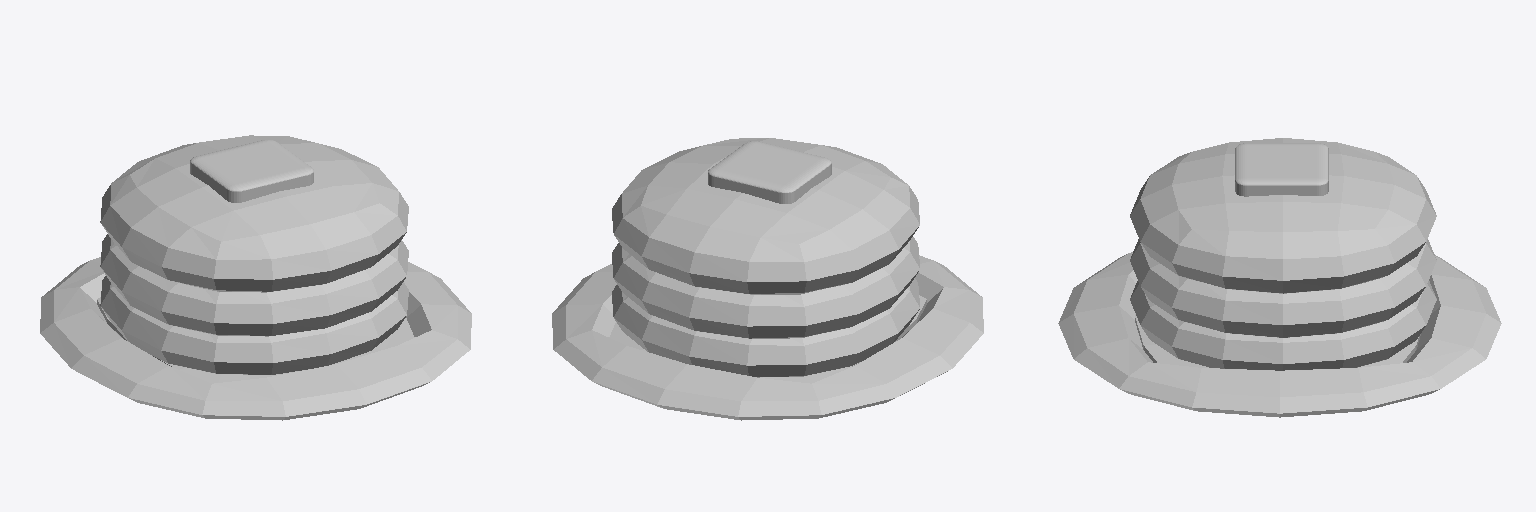
The model's file is Pancakes.obj.
3 views of the same model, side by side, from view 1: azimuth 30°, elevation 25°; view 2: azimuth 150°, elevation 25°; view 3: azimuth 270°, elevation 25° (orthographic).
Parts seen in each view (by area): view 1: Cube.003, Cube, Cube.002, Cube.001, Roundcube; view 2: Cube.003, Cube, Cube.002, Cube.001, Roundcube; view 3: Cube.003, Cube, Cube.002, Cube.001, Roundcube.
Part boxes in pixels (left/top/right/bottom): Cube.003: left=100, top=135, right=408, bottom=292; Cube: left=40, top=257, right=471, bottom=420; Cube.002: left=100, top=234, right=408, bottom=336; Cube.001: left=100, top=276, right=408, bottom=374; Roundcube: left=190, top=140, right=313, bottom=202; Cube.003: left=612, top=138, right=919, bottom=294; Cube: left=552, top=255, right=983, bottom=420; Cube.002: left=612, top=237, right=919, bottom=338; Cube.001: left=612, top=278, right=919, bottom=377; Roundcube: left=708, top=141, right=831, bottom=203; Cube.003: left=1130, top=138, right=1436, bottom=293; Cube: left=1058, top=252, right=1501, bottom=417; Cube.002: left=1130, top=239, right=1436, bottom=337; Cube.001: left=1130, top=281, right=1436, bottom=370; Roundcube: left=1235, top=143, right=1328, bottom=196.
Size of the model in its own units: 2.11 by 1.01 by 2.19.